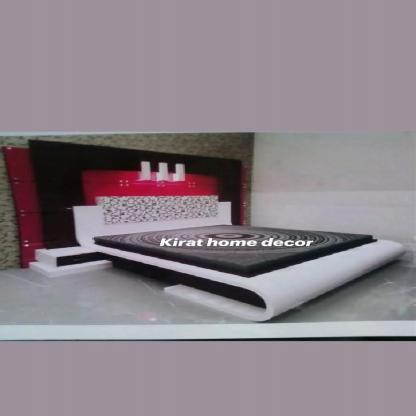Bed: (31, 195, 414, 298)
